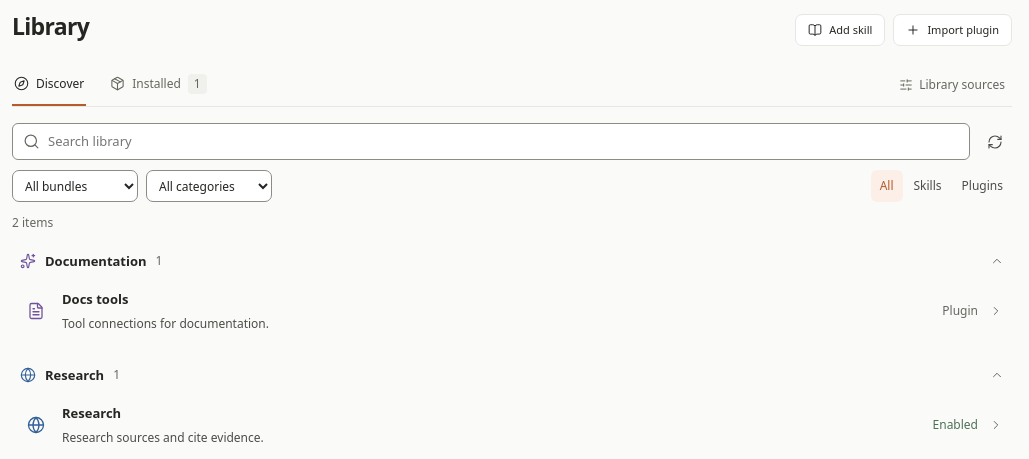
Test case: setup library › opens Discover and searches all supported metadata automatically without installing anything
Check: the heading "Research" is shown, box 62,404 -> 121,424
Type "browser citations" into the field labelled "Search library".
click(504, 142); type("browser citations")  # box 48,132 -> 959,151
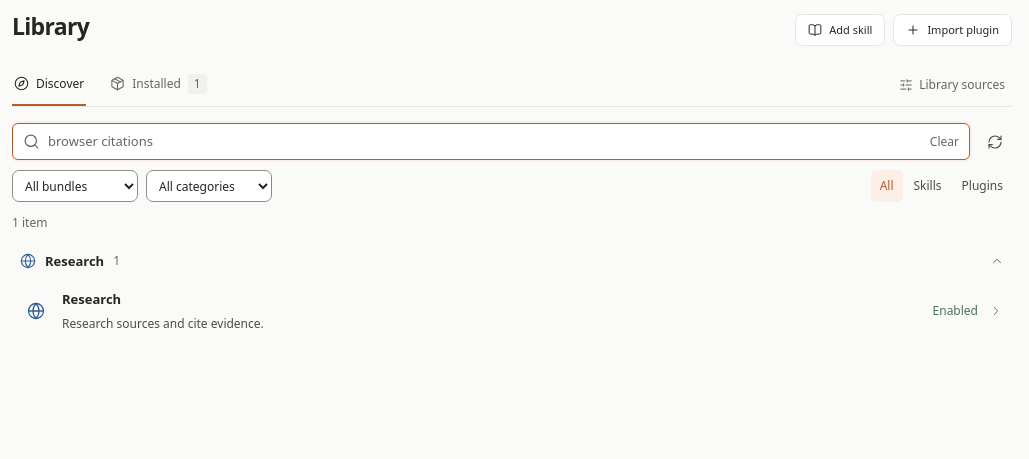
Check: the heading "Research" is shown, box 62,290 -> 121,310
Check: the button "Docs tools" is gone
